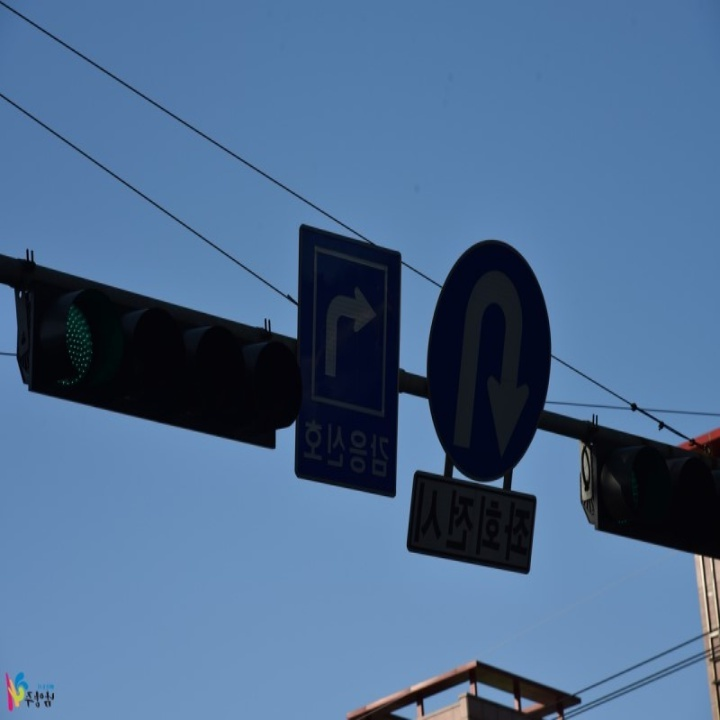right: (316, 277, 381, 386)
